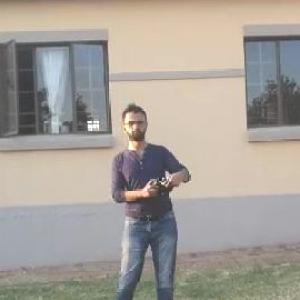follow: (108, 98, 196, 299)
